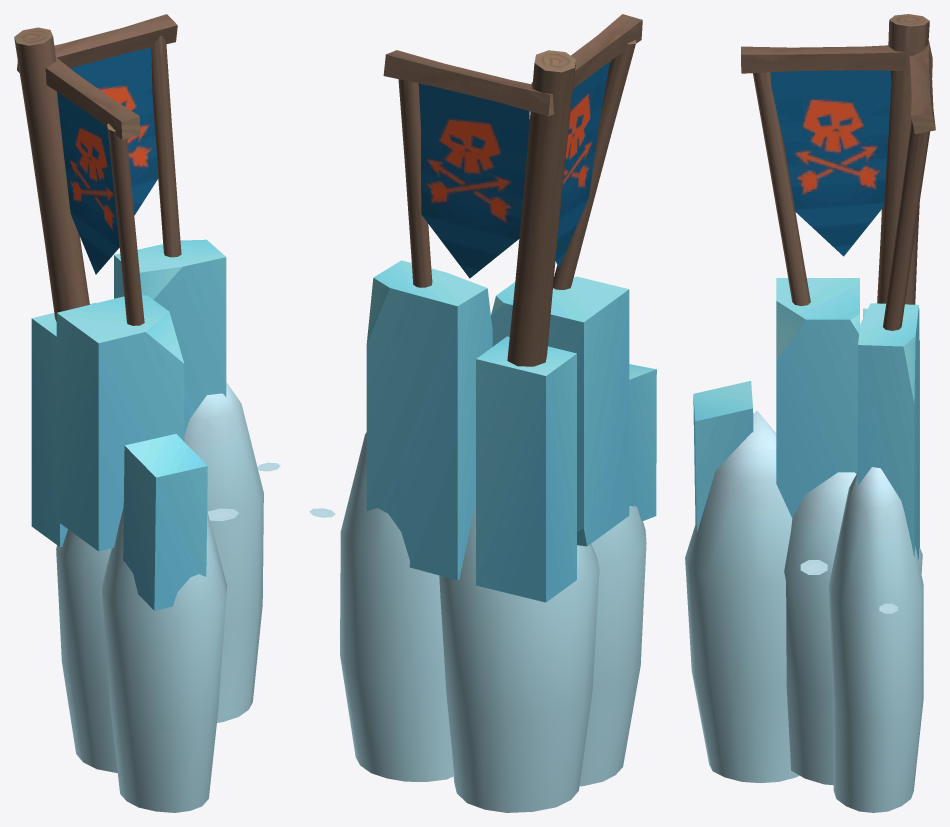
The model's file is WallCorner-004_40_07_5879.fbx.
3 views of the same model, side by side, from view 1: azimuth 30°, elevation 25°; view 2: azimuth 150°, elevation 25°; view 3: azimuth 270°, elevation 25° (orthographic). The views are drawn at different scales.
Parts seen in each view (by area): view 1: Corner, WoodFatty (1) (×2), Flag2.001 (1) (×2), WoodTop (2) (×2), WoodFatty; view 2: Corner, Flag2.001 (1) (×2), WoodFatty (1) (×2), WoodTop (2) (×2), WoodFatty; view 3: Corner, Flag2.001 (1), WoodFatty (1) (×2), WoodTop (2) (×2), WoodFatty.
Part boxes in pixels (<box>): Corner: <box>31,239,280,812</box>; WoodFatty (1) (×2): <box>14,27,181,321</box>; Flag2.001 (1) (×2): <box>57,47,158,274</box>; WoodTop (2) (×2): <box>17,14,177,139</box>; WoodFatty: <box>107,123,144,325</box>; Corner: <box>309,260,656,812</box>; Flag2.001 (1) (×2): <box>418,61,609,278</box>; WoodFatty (1) (×2): <box>398,50,575,366</box>; WoodTop (2) (×2): <box>383,14,642,116</box>; WoodFatty: <box>553,40,636,289</box>; Corner: <box>685,278,923,812</box>; Flag2.001 (1): <box>770,70,891,256</box>; WoodFatty (1) (×2): <box>877,14,930,330</box>; WoodTop (2) (×2): <box>741,40,935,133</box>; WoodFatty: <box>753,72,810,305</box>.
Size of the model in its own units: 3.63 by 9.86 by 3.12.
